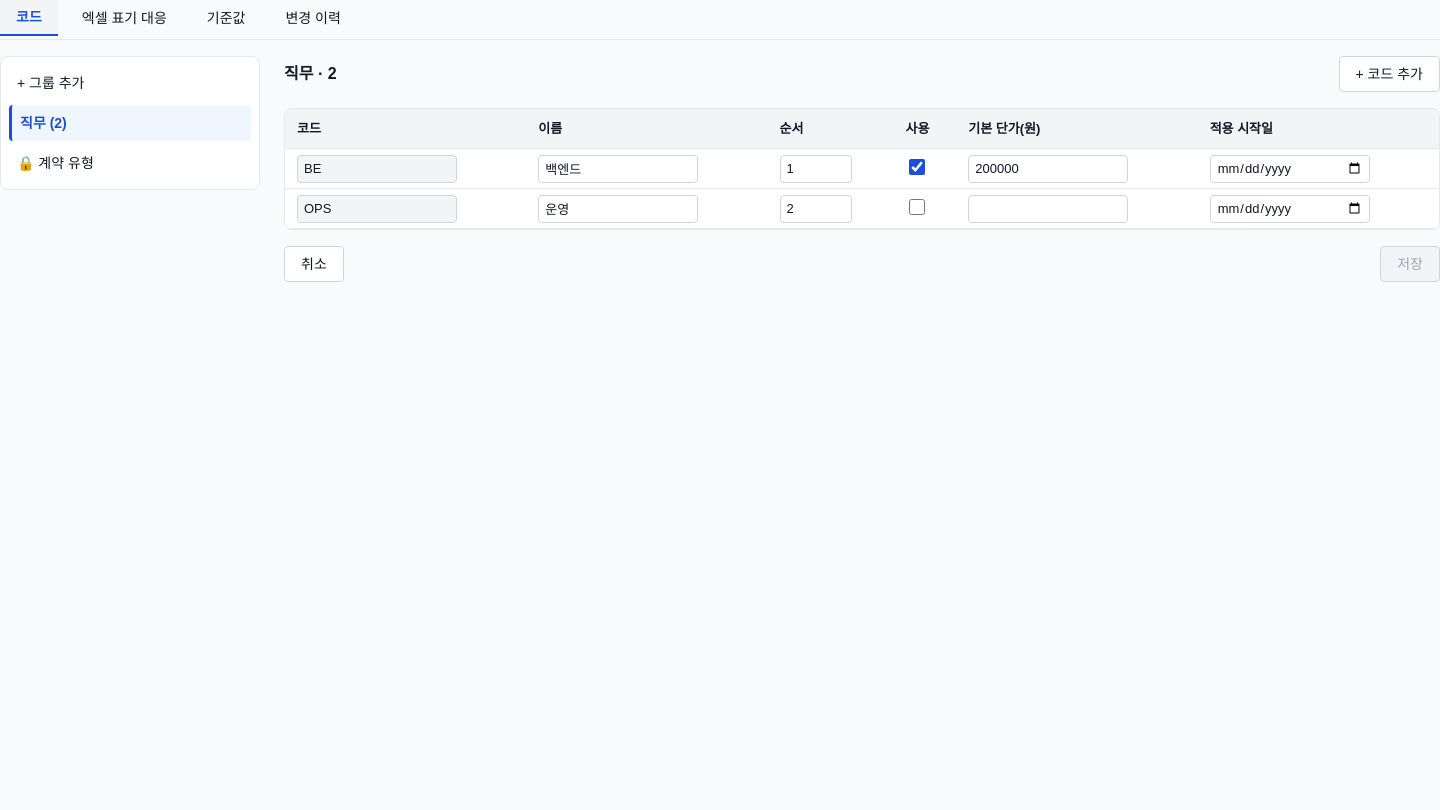
Test: dirty 하위 탭과 그룹 이동은 계속 작성에서 입력/선택을 보존한다
The image size is (1440, 810).
Replace the text in the field named "이름 1" with "보존" at (618, 168), box left=538, top=154, right=698, bottom=182
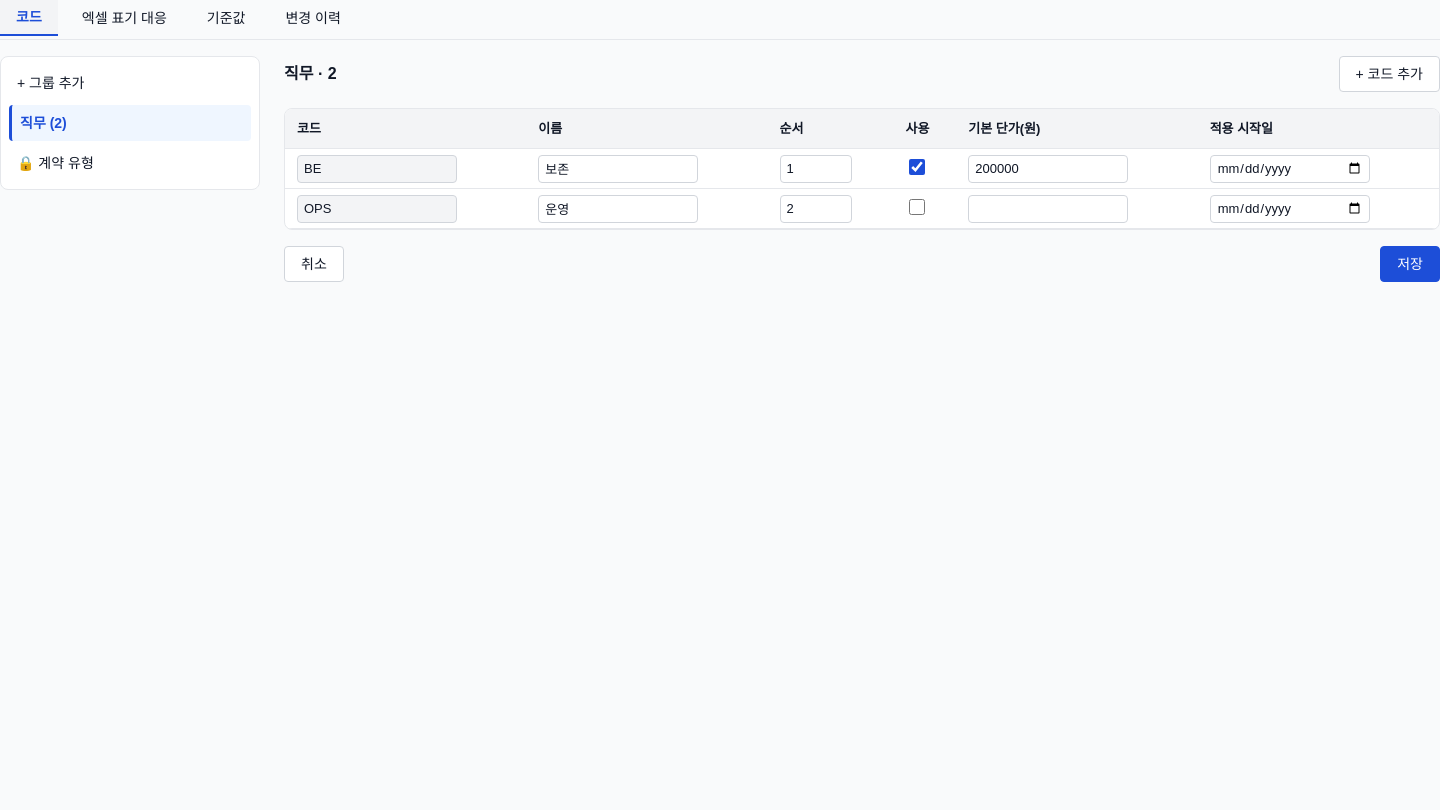
Click the tab "기준값".
click(226, 18)  # box left=191, top=0, right=261, bottom=36
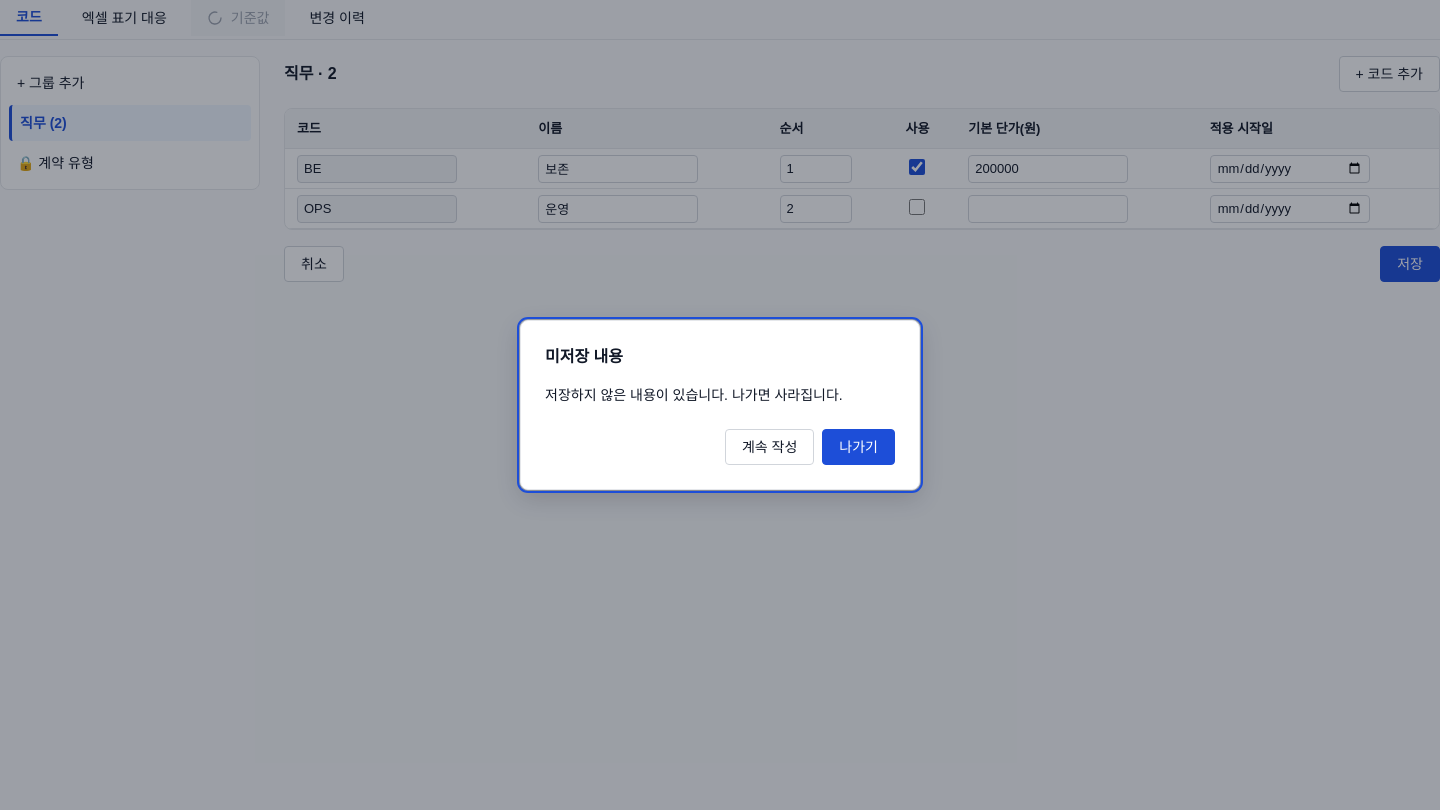
expect the dialog is shown: met, box left=520, top=320, right=920, bottom=490
Click the button "계속 작성".
click(770, 447)  # box left=725, top=429, right=814, bottom=465
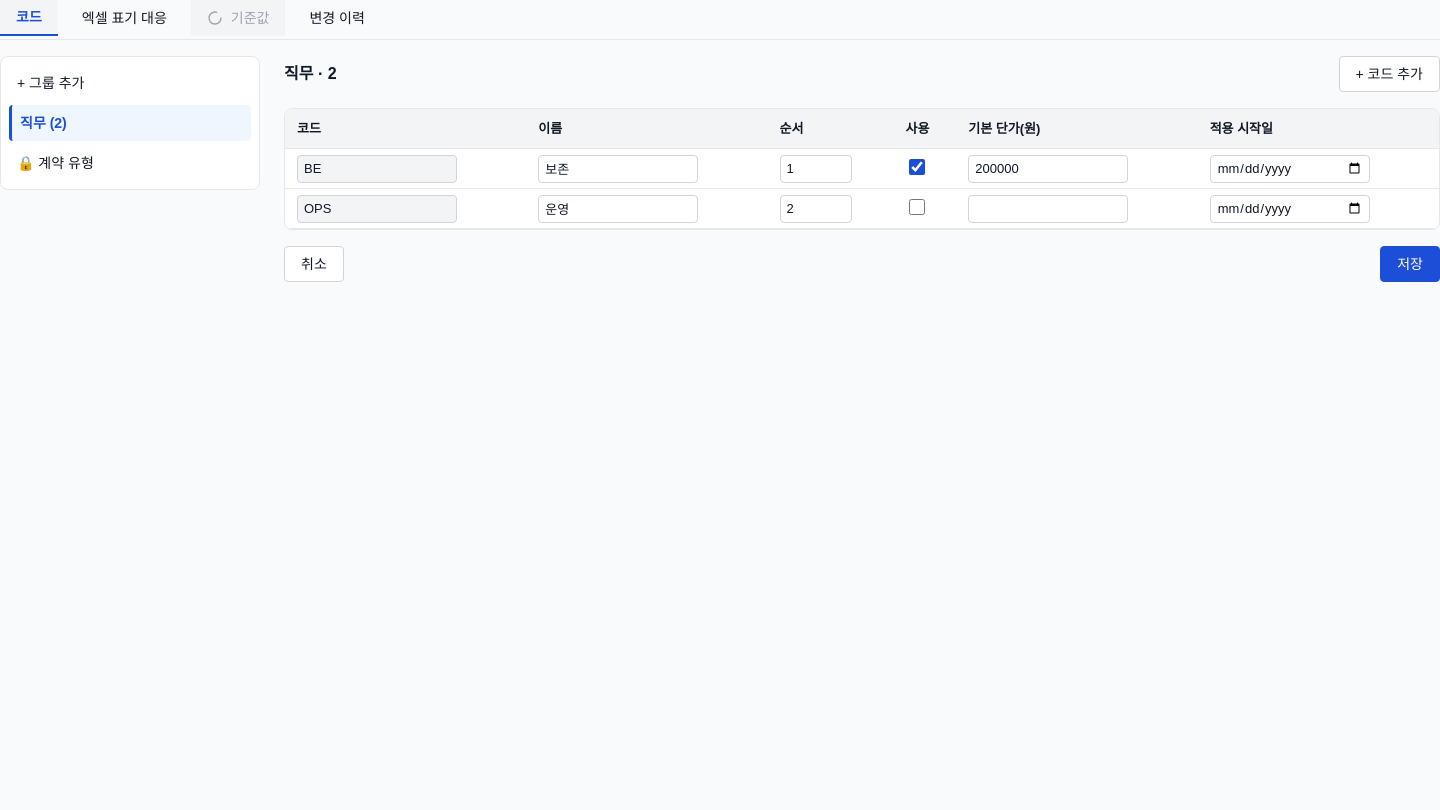
expect the dialog is gone: met
Click the button "🔒 계약 유형".
click(130, 163)  # box left=9, top=145, right=251, bottom=181
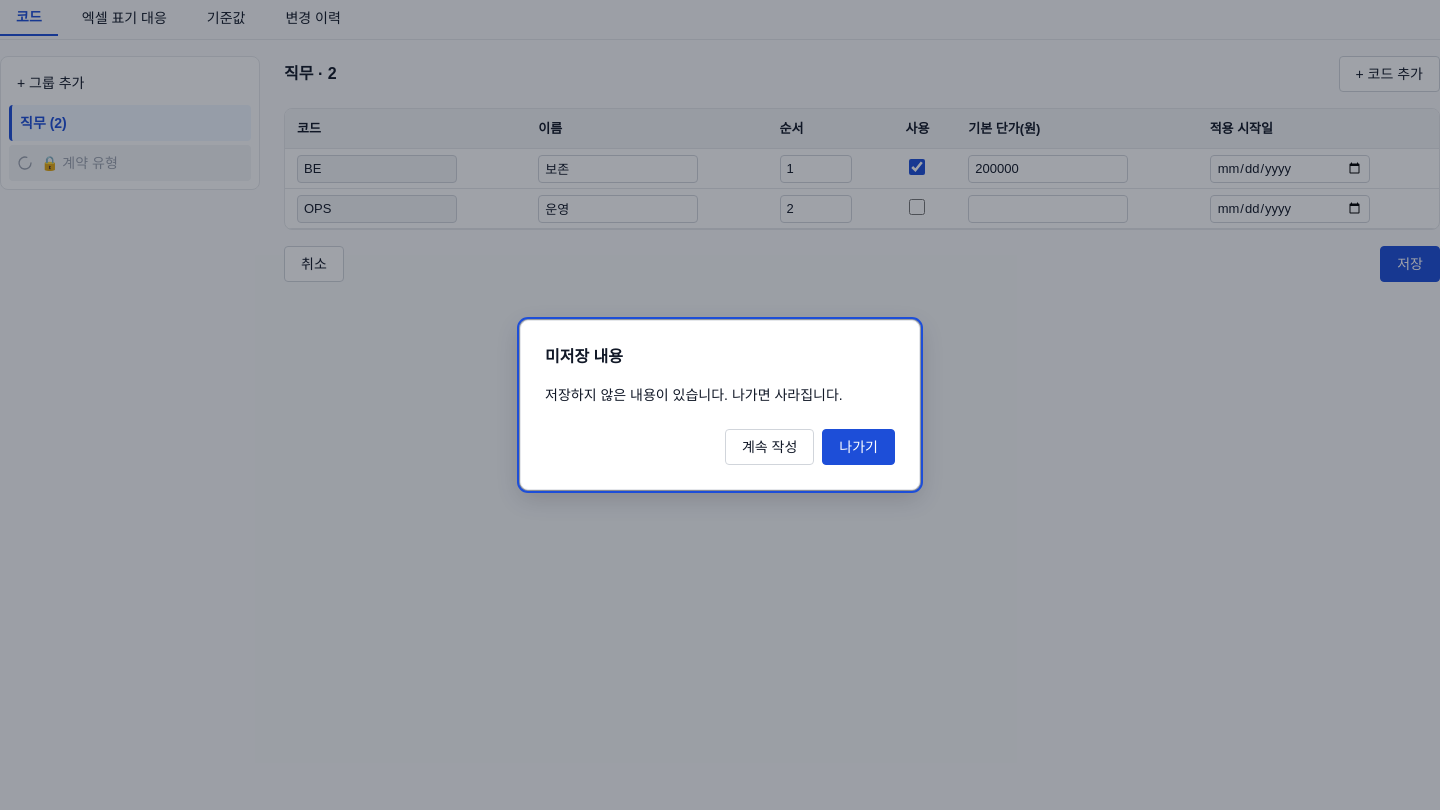
expect the dialog is shown: met, box left=520, top=320, right=920, bottom=490
Click the button "나가기".
click(859, 447)  # box left=822, top=429, right=895, bottom=465
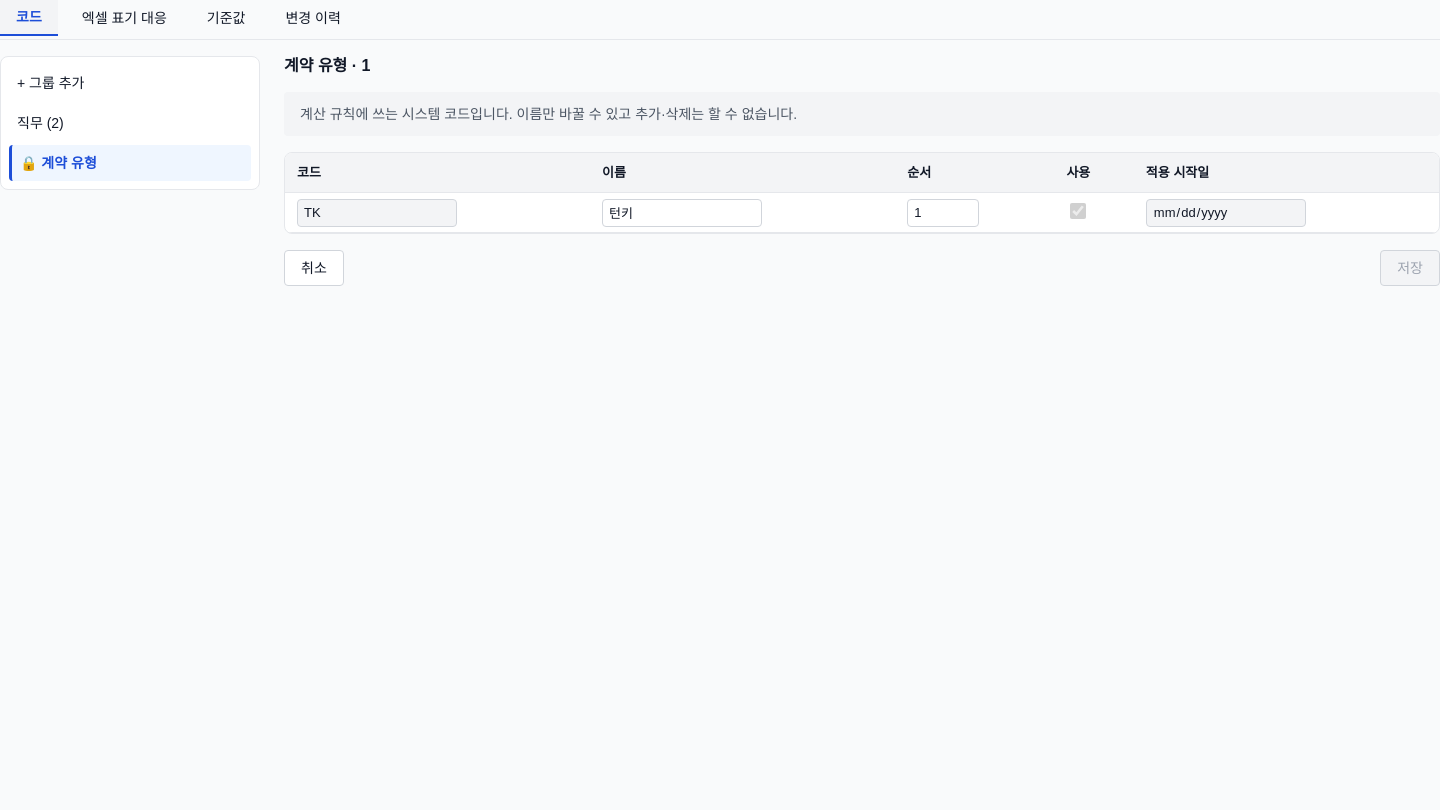
expect the field showing "턴키" is shown: met, box left=602, top=198, right=762, bottom=226
